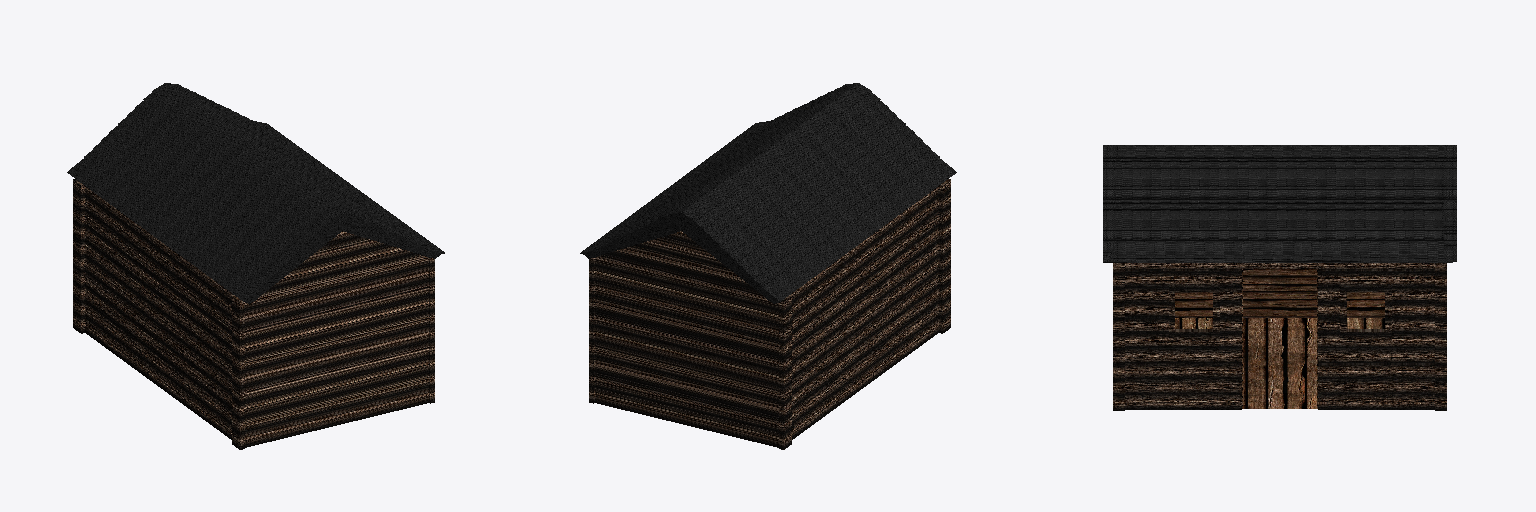
3 renders of one model, left to right at view 1: azimuth 30°, elevation 25°; view 2: azimuth 150°, elevation 25°; view 3: azimuth 270°, elevation 25°, orthographic.
Visible parts, largest first — view 1: ShedOutside, Roof; view 2: ShedOutside, Roof; view 3: Roof, ShedOutside, InsideShed.
Boxes of the visible parts, box(x1,y1,x2,y2) form: ShedOutside: box(73, 179, 434, 449); Roof: box(67, 83, 444, 303); ShedOutside: box(589, 179, 950, 449); Roof: box(580, 83, 956, 303); Roof: box(1103, 145, 1456, 262); ShedOutside: box(1113, 263, 1446, 410); InsideShed: box(1175, 269, 1384, 408).
Bounding box in the file's own units: 6.1 × 6.29 × 9.28.
4 materials, 3 textured.